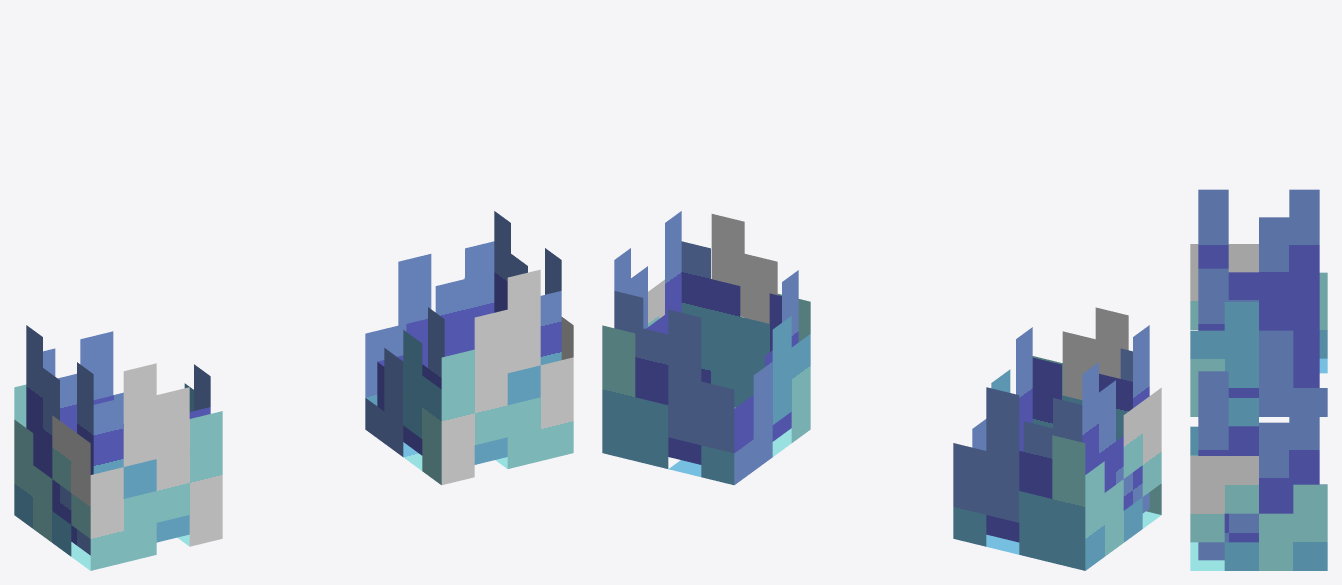
Rendered from sl_ice_hands.glb.
3 views of the same model, side by side, from view 1: azimuth 30°, elevation 25°; view 2: azimuth 150°, elevation 25°; view 3: azimuth 270°, elevation 25° (orthographic). The views are drawn at different scales.
Visible parts, largest first — view 1: bb_ice_hands; view 2: bb_ice_hands; view 3: bb_ice_hands.
Part boxes in pixels (x1,y1,x2,y2): bb_ice_hands: (14,211,573,570); bb_ice_hands: (602,211,1161,570); bb_ice_hands: (1190,189,1327,570).
Bounding box in the file's own units: 1.03 × 0.7825 × 0.2825.
1 material, 1 textured.
